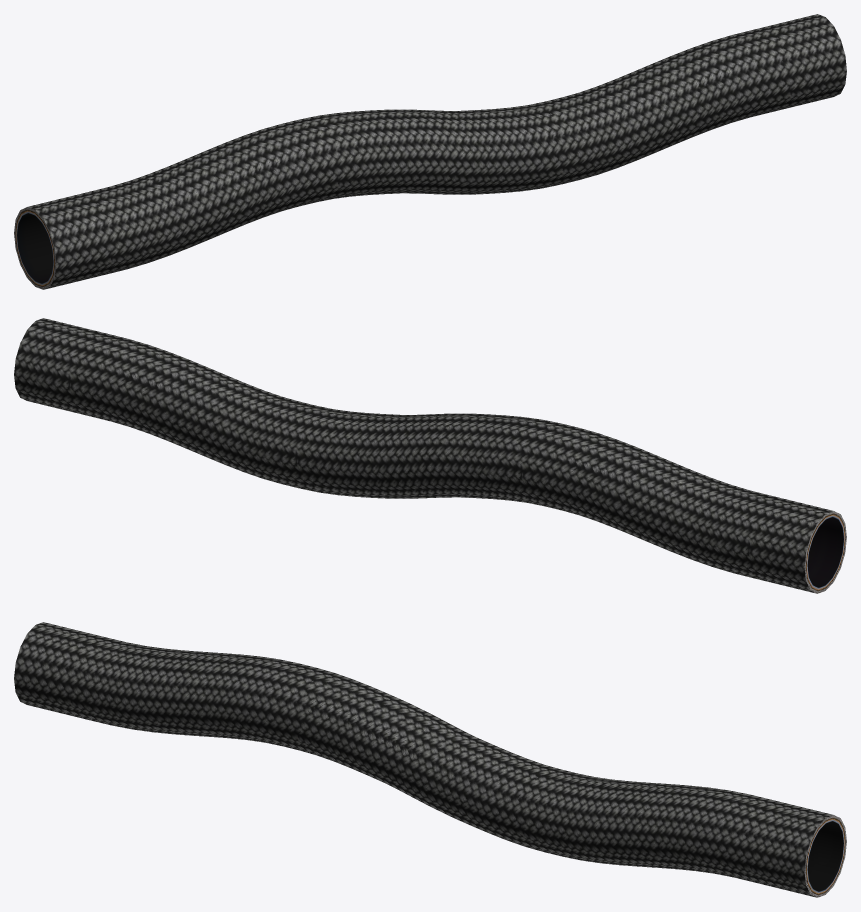
3 views of the same model, one above another, from view 1: azimuth 30°, elevation 25°; view 2: azimuth 150°, elevation 25°; view 3: azimuth 330°, elevation 25° (orthographic).
Visible parts, largest first — view 1: Aramid_Braid-24; view 2: Aramid_Braid-24; view 3: Aramid_Braid-24.
Boxes of the visible parts, x1=… form: Aramid_Braid-24: x1=14, y1=14, x2=846, y2=289; Aramid_Braid-24: x1=14, y1=318, x2=846, y2=593; Aramid_Braid-24: x1=14, y1=622, x2=846, y2=897.
Size of the model in its own units: 0.5 by 0.0719 by 0.0465.
2 materials, 2 textured.
